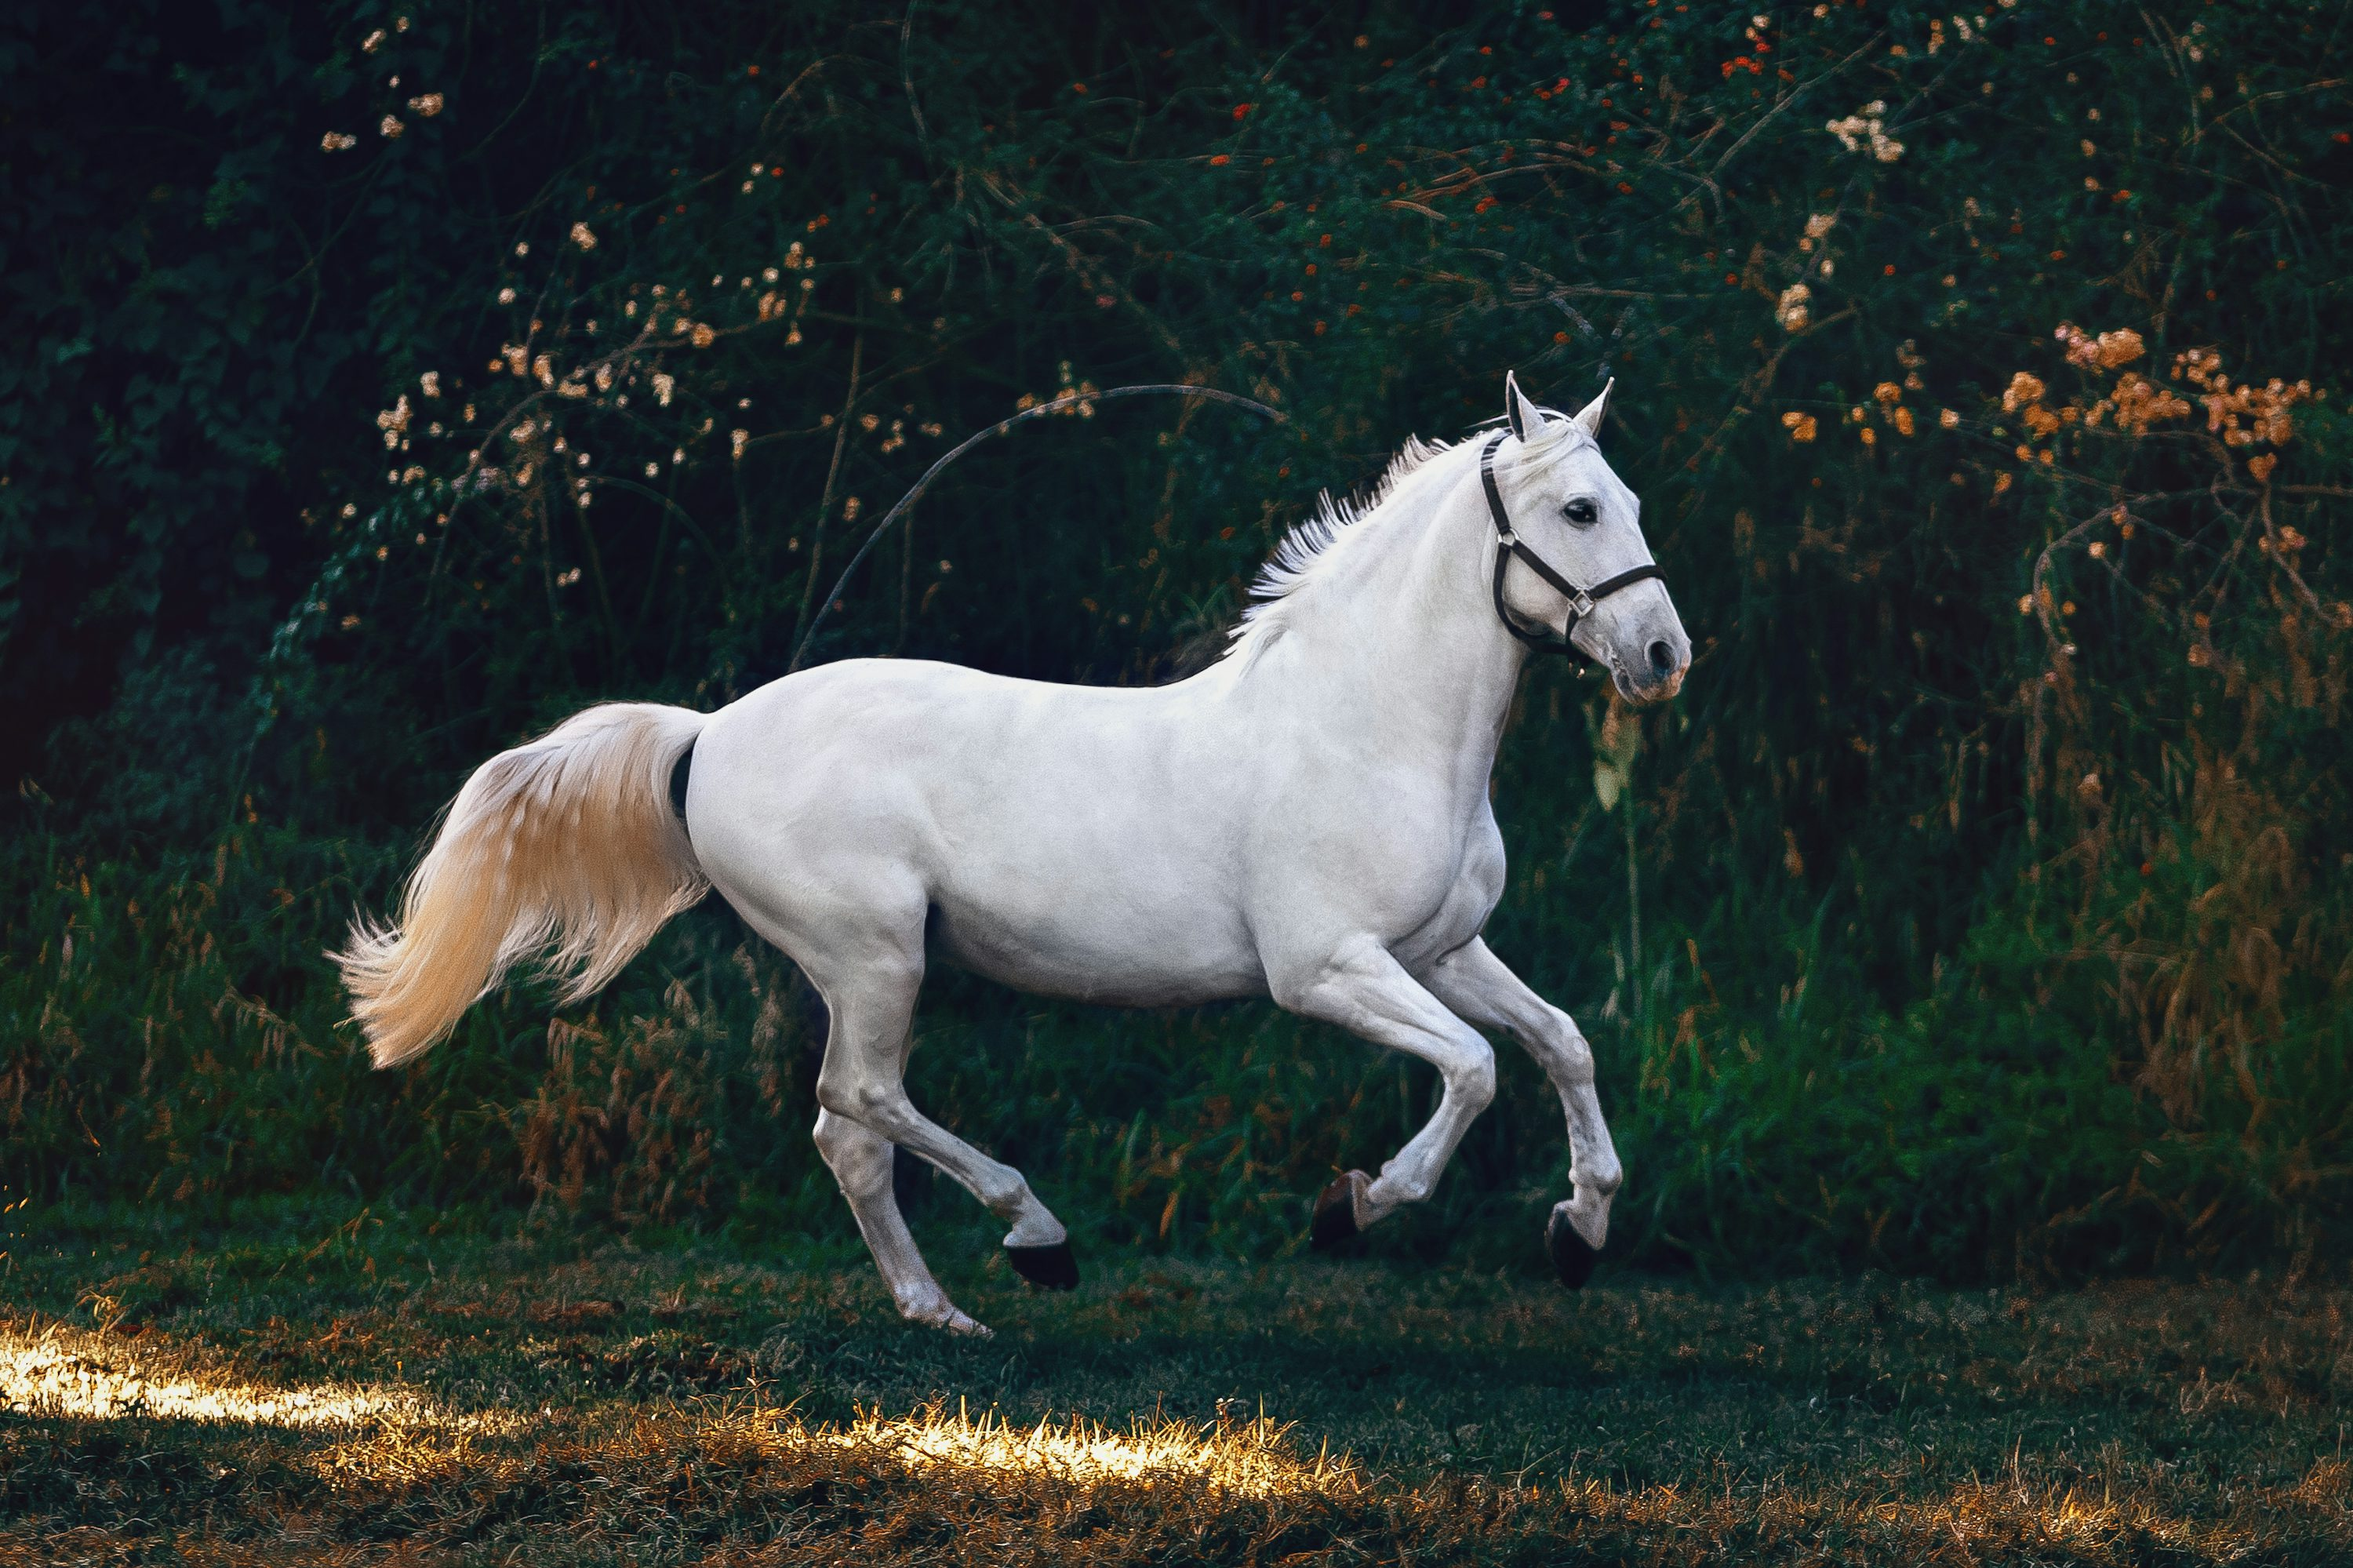horse: (308, 378, 1727, 1304)
